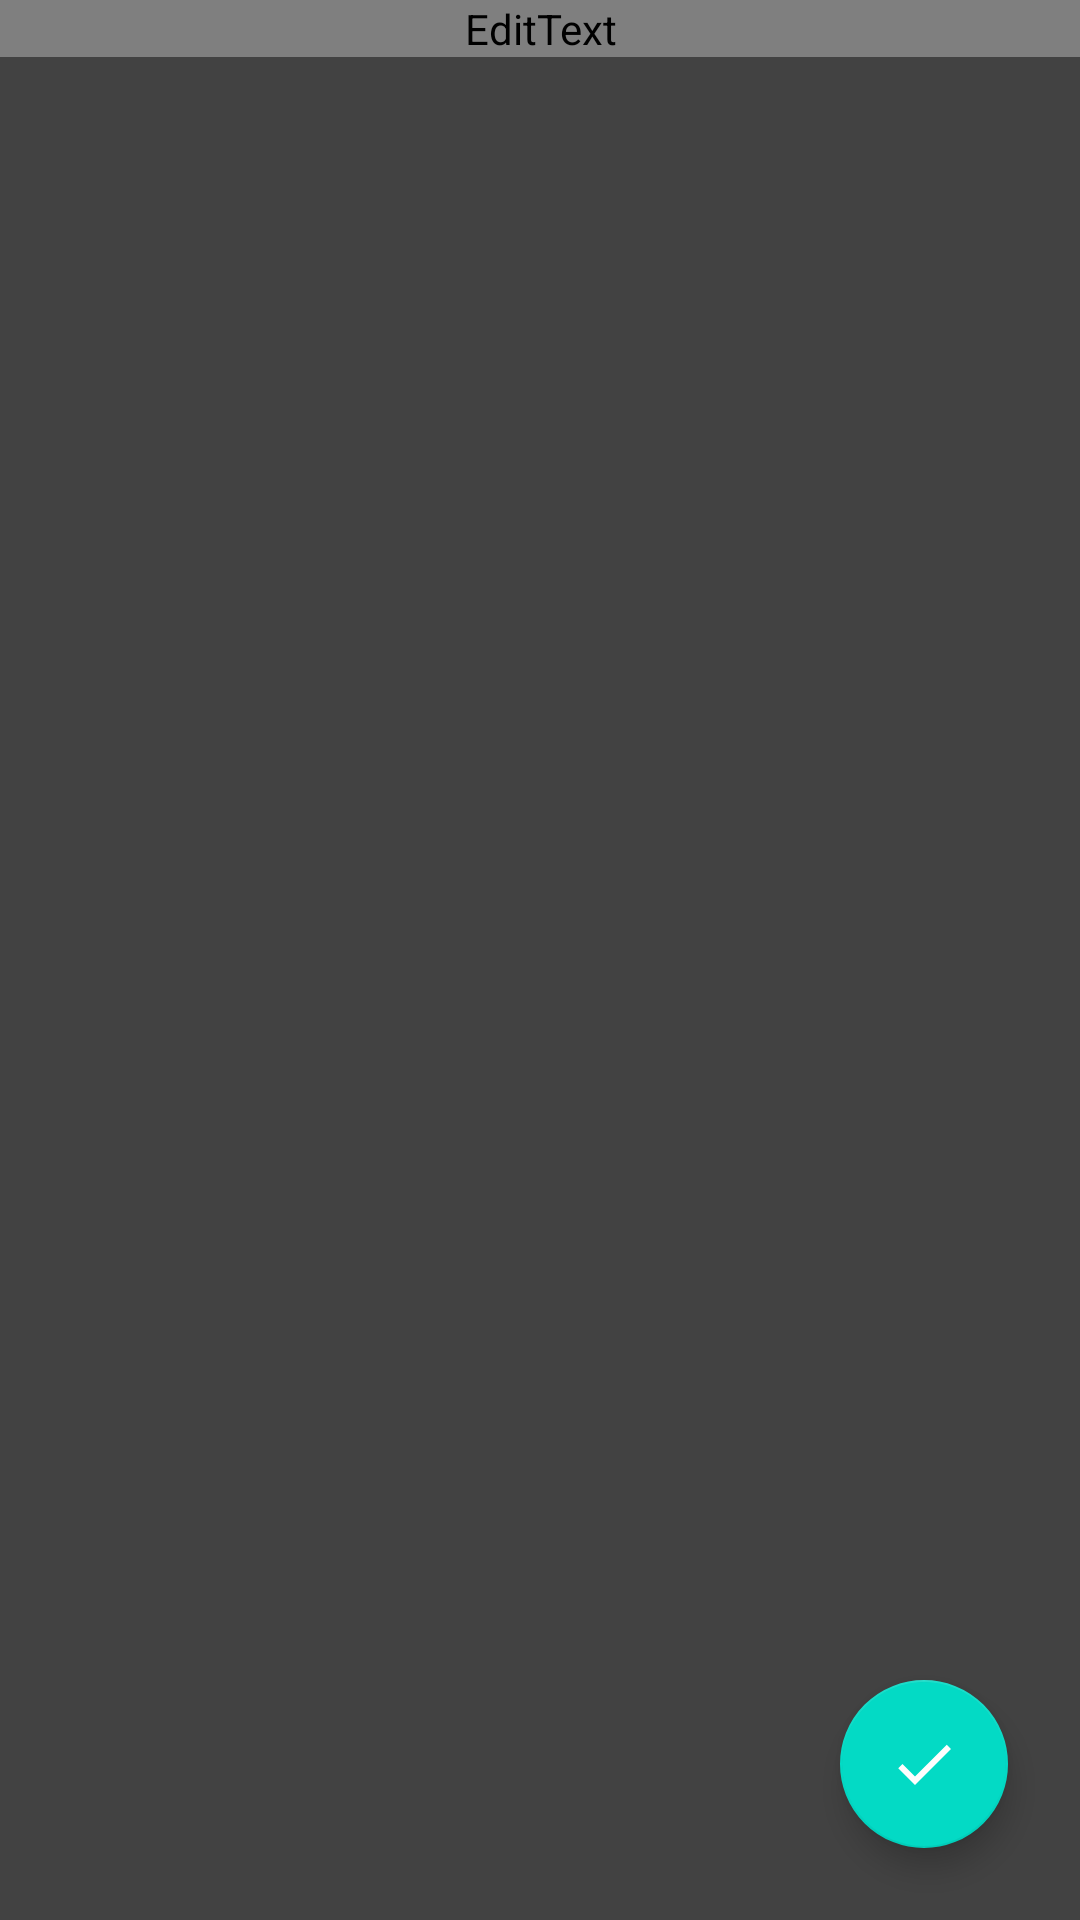

Where icons sit on this 1080*1920 app screen, as (x1, y1, x2, y2):
check: (840, 1680, 1008, 1848)
